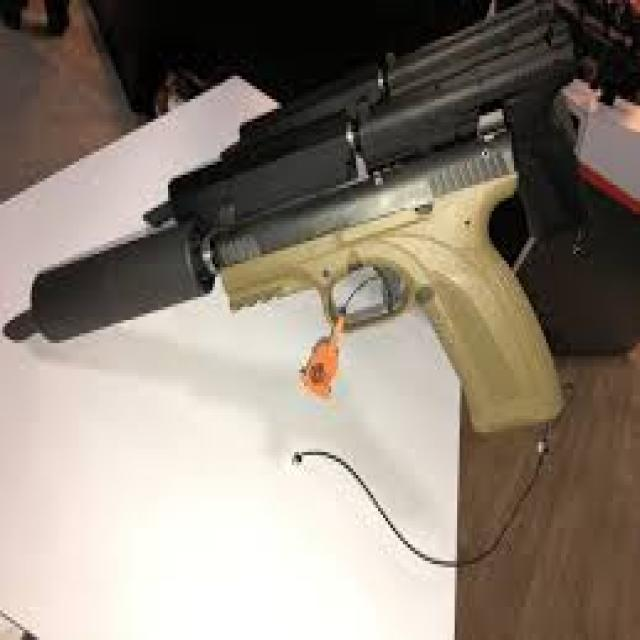Gun: (26, 98, 592, 456)
